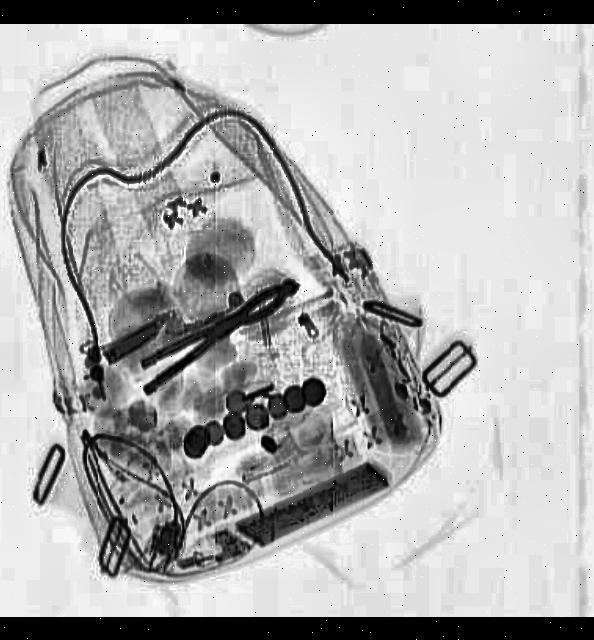Pliers: (127, 272, 303, 398)
